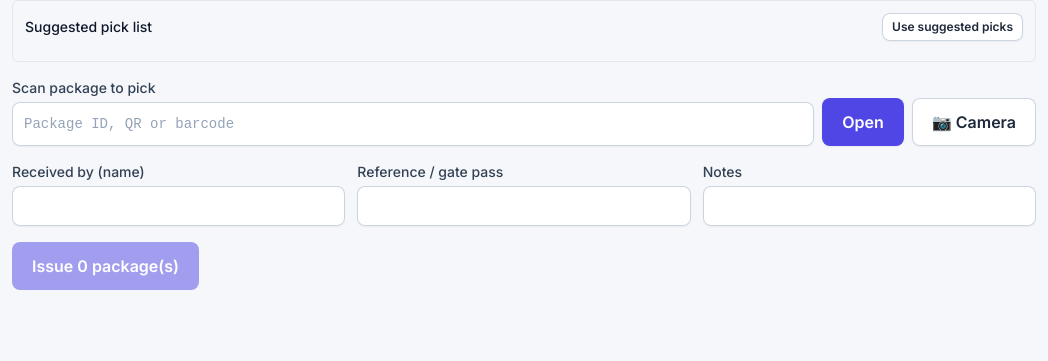
Test case: Business rules in forms › refuses a bag bigger than the quantity still requested (whole bags only)
This screenshot has width=1048, height=361.
Type "PKG-BIG" into the field labelled "Scan package to pick" at [413, 124], box [12,102,814,146]
Then press Enter
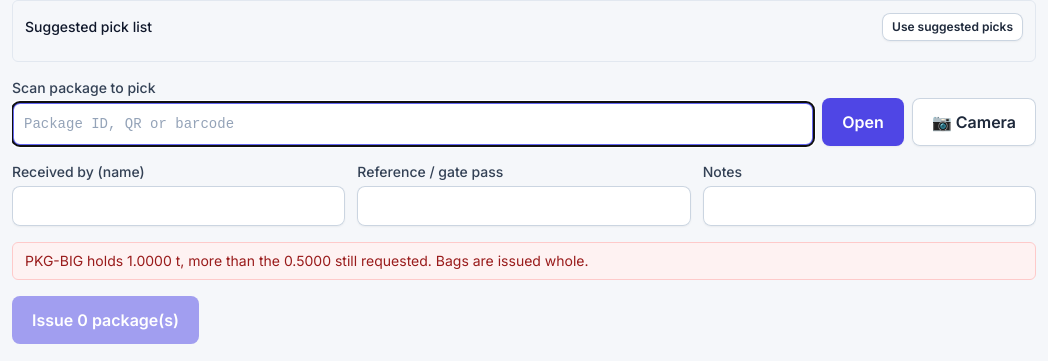
Check: the text "Bags are issued whole" is shown, box [25,252,589,269]
